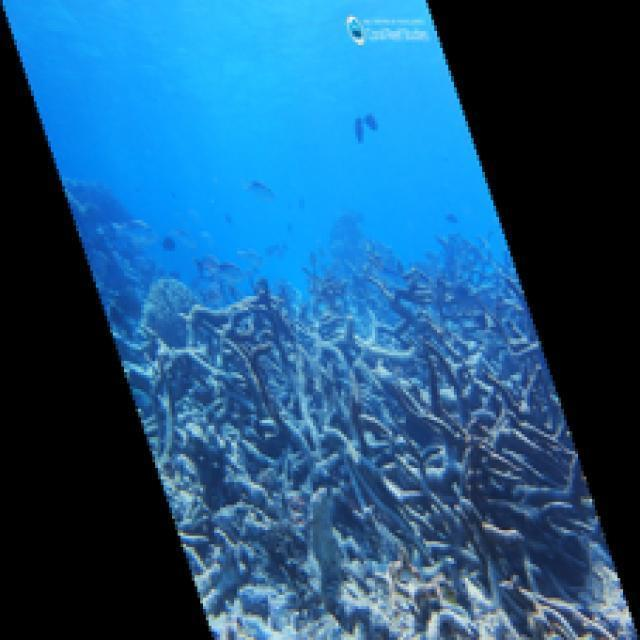Dead Coral: (230, 340, 543, 555)
